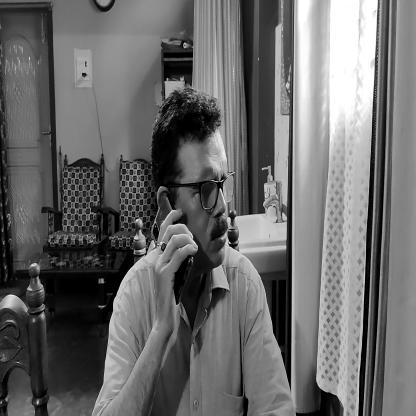Distracted: (150, 86, 231, 277)
